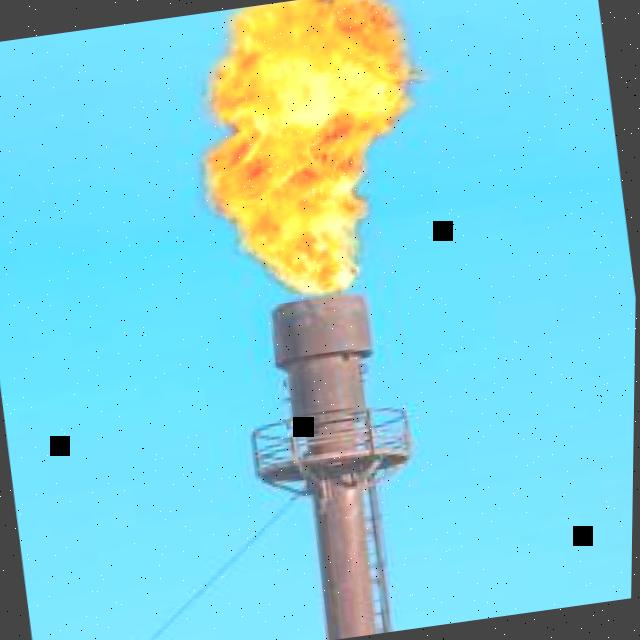fire: (196, 0, 424, 295)
